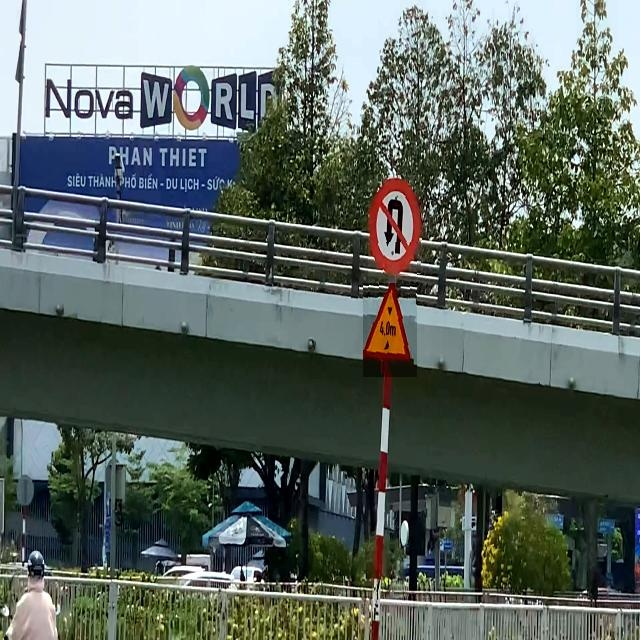bien_nguy_hiem: (368, 175, 423, 276), (363, 284, 417, 378)
